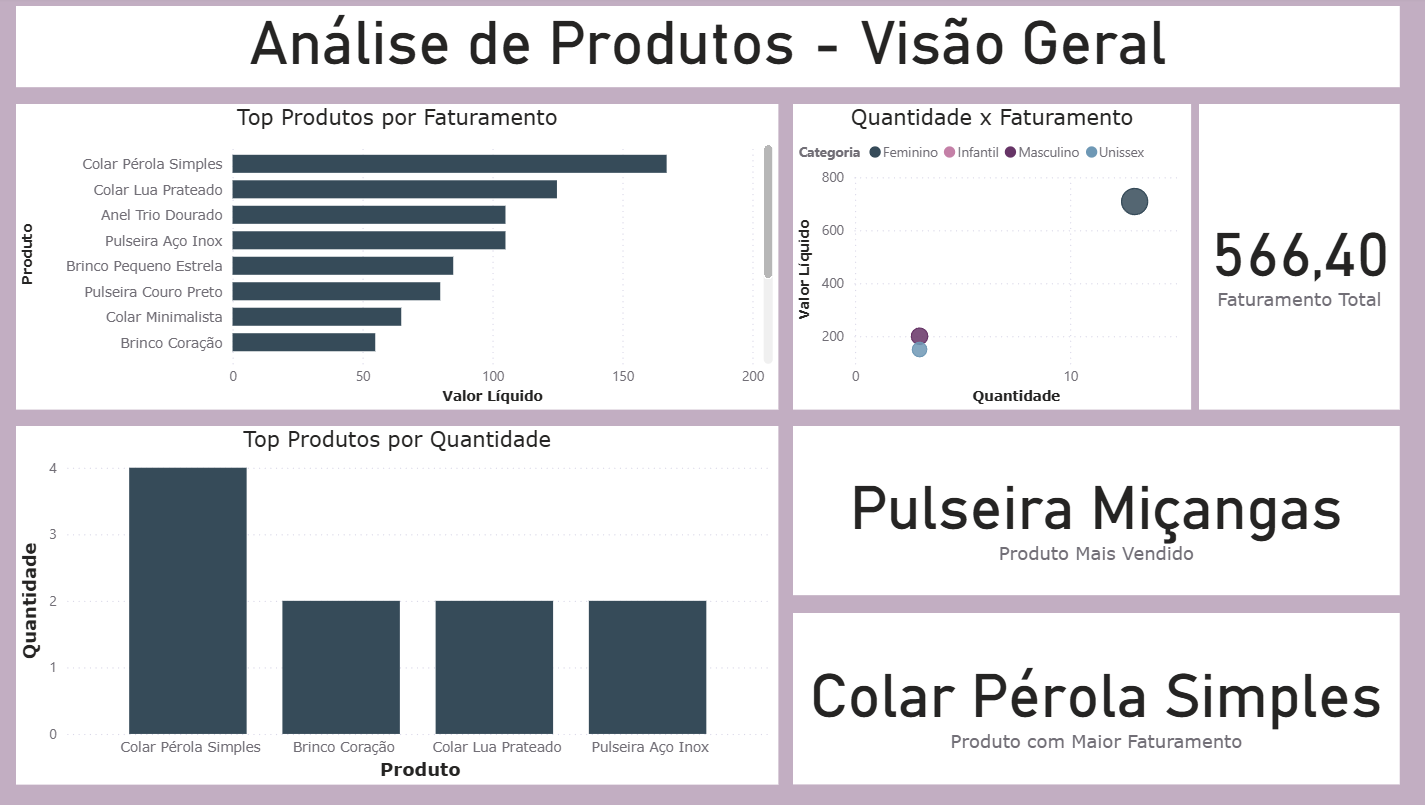

What the dashboard file says about the page in this screenshot:
{"tool":"powerbi","page":{"name":"Análise de Produtos","canvas":[1280,720],"ordinal":2},"visuals":[{"type":"card","fields":{"Values":["acessoryhub produtos.Título Produtos"]},"box":[23.9,8,1227.2,71.8],"z":0},{"type":"card","fields":{"Values":["acessoryhub produtos.Faturamento Pedidos"]},"box":[1072.8,95.3,178,271.4],"z":1000},{"type":"card","fields":{"Values":["acessoryhub produtos.Produto Mais Vendido"]},"box":[712.9,380.3,537.9,149.8],"z":2000},{"type":"card","fields":{"Values":["acessoryhub produtos.Produto Maior Faturamento"]},"box":[712.9,546.6,537.9,151.7],"z":3000},{"type":"clusteredColumnChart","title":"Top Produtos por Quantidade","fields":{"Category":["acessoryhub produtos.Nome_Produto"],"Y":["Sum(acessoryhub itens_do_pedido.Quantidade)"]},"box":[24.3,380.3,676,318.1],"z":4000},{"type":"clusteredBarChart","title":"Top Produtos por Faturamento","fields":{"Category":["acessoryhub produtos.Nome_Produto"],"Y":["acessoryhub vw_lojas_padronizadas.Valor Líquido"]},"box":[24.3,95.3,676,271.4],"z":5000},{"type":"scatterChart","title":"Quantidade x Faturamento","fields":{"X":["Sum(acessoryhub itens_do_pedido.Quantidade)"],"Y":["acessoryhub vw_lojas_padronizadas.Valor Líquido"],"Size":["CountNonNull(acessoryhub produtos.Nome_Produto)"],"Series":["acessoryhub produtos.Categoria"]},"box":[712.9,95.3,353.1,271.4],"z":6000}]}

Visuals, with their boxes in screenshot pixels (x1, y1, x2, y2), scaled from the page's 1280x720 canvas onto the 1425x805 screenshot:
card - acessoryhub produtos.Título Produtos: region(27, 9, 1393, 89)
card - acessoryhub produtos.Faturamento Pedidos: region(1194, 107, 1392, 410)
card - acessoryhub produtos.Produto Mais Vendido: region(794, 425, 1392, 593)
card - acessoryhub produtos.Produto Maior Faturamento: region(794, 611, 1392, 781)
"Top Produtos por Quantidade" clusteredColumnChart: region(27, 425, 780, 781)
"Top Produtos por Faturamento" clusteredBarChart: region(27, 107, 780, 410)
"Quantidade x Faturamento" scatterChart: region(794, 107, 1187, 410)
